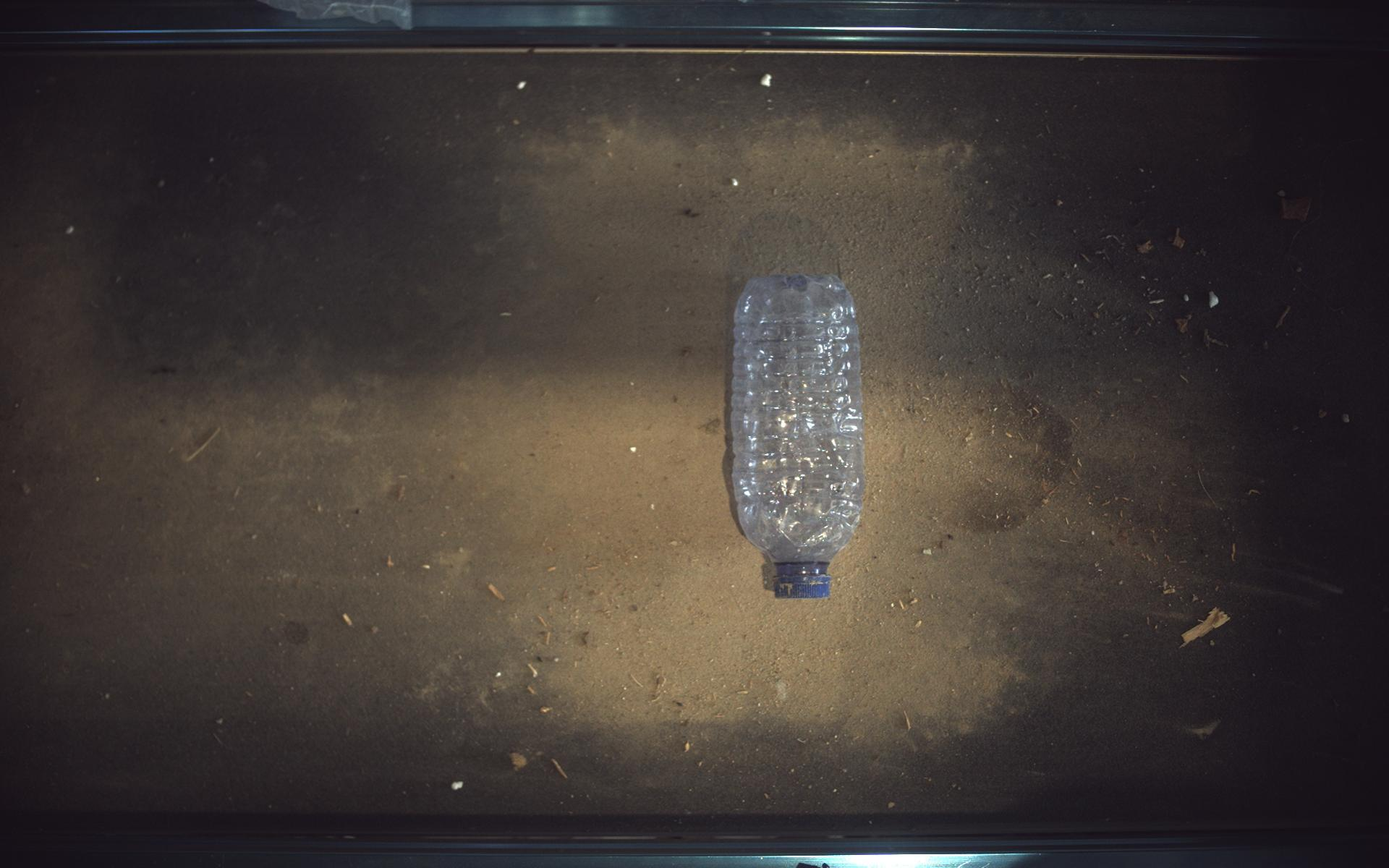general_w: (731, 273, 866, 599)
